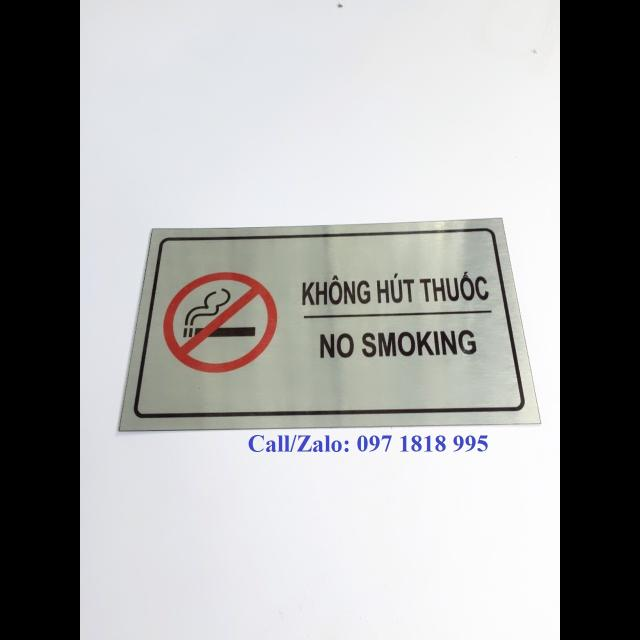cam hut thuoc: (122, 220, 538, 430)
